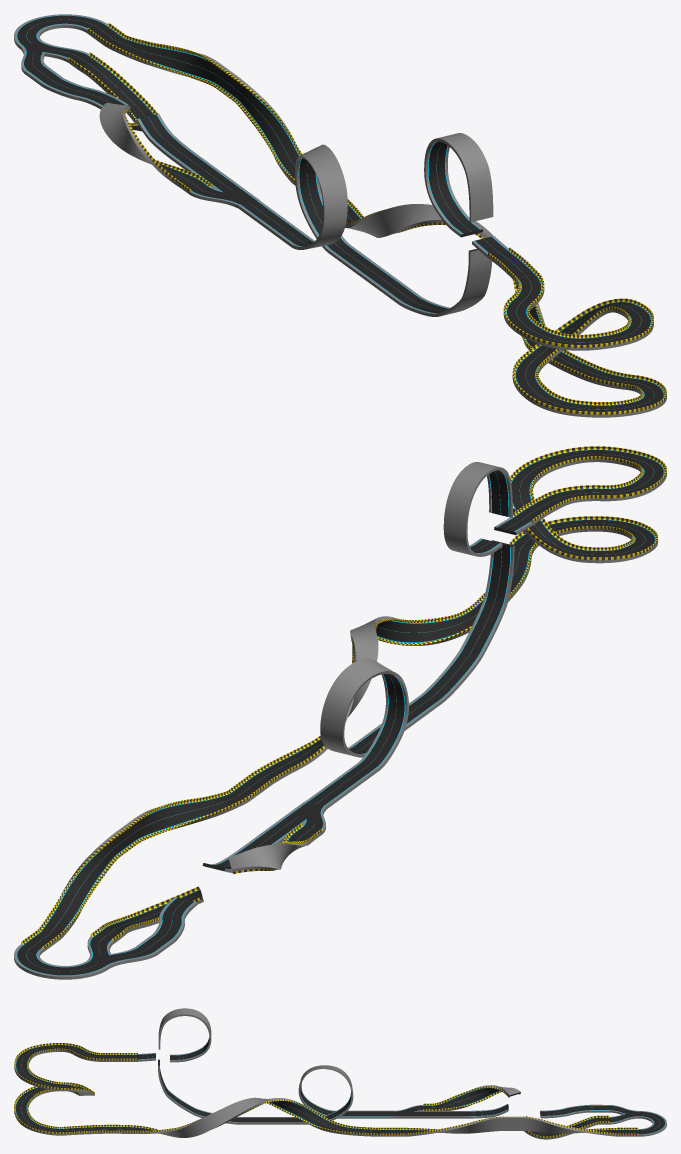
Rendered from Gravity Track Test.fbx.
3 views of the same model, one above another, from view 1: azimuth 30°, elevation 25°; view 2: azimuth 150°, elevation 25°; view 3: azimuth 270°, elevation 25° (orthographic). The views are drawn at different scales.
Visible parts, largest first — view 1: Track Example .025, Track Example .021, Straight Ahead Wall.039, Track Example .019, Track Example .022, Track Example .024, Track Example .020, Track Example .015, Straight Ahead Wall.038, Track Example .018, Track Example .017, Y Split.002 (+4 smaller); view 2: Track Example .025, Track Example .021, Straight Ahead Wall.039, Track Example .019, Track Example .024, Track Example .022, Straight Ahead Wall.038, Track Example .015, Track Example .018, Y Split.002, Track Example .017, Track Example .020 (+3 smaller); view 3: Track Example .025, Straight Ahead Wall.039, Track Example .019, Track Example .021, Track Example .022, Track Example .015, Track Example .020, Track Example .024, Straight Ahead Wall.038, Track Example .018, Track Example .017, Straight Ahead Wall.036 (+5 smaller).
Boxes of the visible parts, box(x1,y1,x2,y2) form: Track Example .025: box(319, 185, 666, 417); Track Example .021: box(237, 144, 406, 293); Straight Ahead Wall.039: box(346, 199, 666, 414); Track Example .019: box(87, 25, 299, 185); Track Example .022: box(424, 133, 493, 237); Track Example .024: box(384, 249, 492, 316); Track Example .020: box(136, 113, 233, 186); Track Example .015: box(99, 103, 211, 194); Straight Ahead Wall.038: box(87, 23, 301, 182); Track Example .018: box(24, 65, 129, 109); Track Example .017: box(68, 55, 154, 131); Y Split.002: box(21, 41, 89, 73); Track Example .025: box(236, 449, 666, 795); Track Example .021: box(305, 658, 428, 809); Straight Ahead Wall.039: box(234, 446, 666, 793); Track Example .019: box(21, 789, 256, 952); Track Example .024: box(409, 540, 514, 712); Track Example .022: box(443, 462, 512, 556); Straight Ahead Wall.038: box(21, 786, 256, 949); Track Example .015: box(228, 826, 322, 871); Track Example .018: box(135, 897, 197, 955); Y Split.002: box(87, 936, 156, 968); Track Example .017: box(91, 889, 203, 944); Track Example .020: box(202, 820, 297, 872); Track Example .025: box(14, 1045, 398, 1137); Straight Ahead Wall.039: box(14, 1043, 398, 1134); Track Example .019: box(398, 1117, 638, 1136); Track Example .021: box(254, 1065, 395, 1124); Track Example .022: box(158, 1008, 211, 1062); Track Example .015: box(423, 1085, 520, 1110); Track Example .020: box(423, 1104, 508, 1118); Track Example .024: box(158, 1059, 254, 1124); Straight Ahead Wall.038: box(398, 1116, 638, 1134); Track Example .018: box(540, 1104, 609, 1118); Track Example .017: box(524, 1117, 609, 1139); Straight Ahead Wall.036: box(423, 1086, 520, 1110).
Size of the model in its own units: 286 by 378 by 1820.
